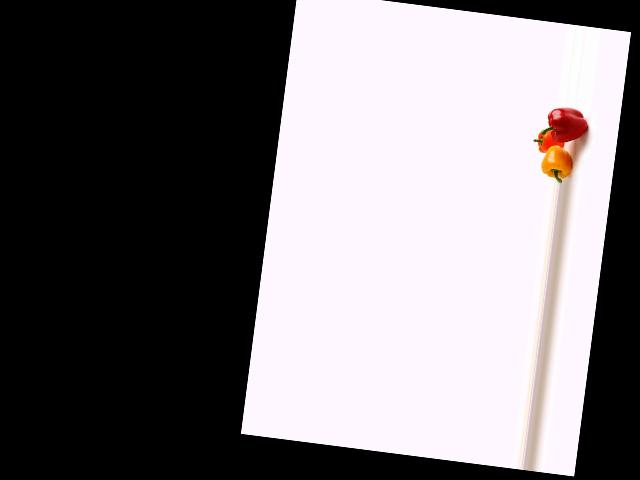bell_pepper: (536, 103, 594, 147)
